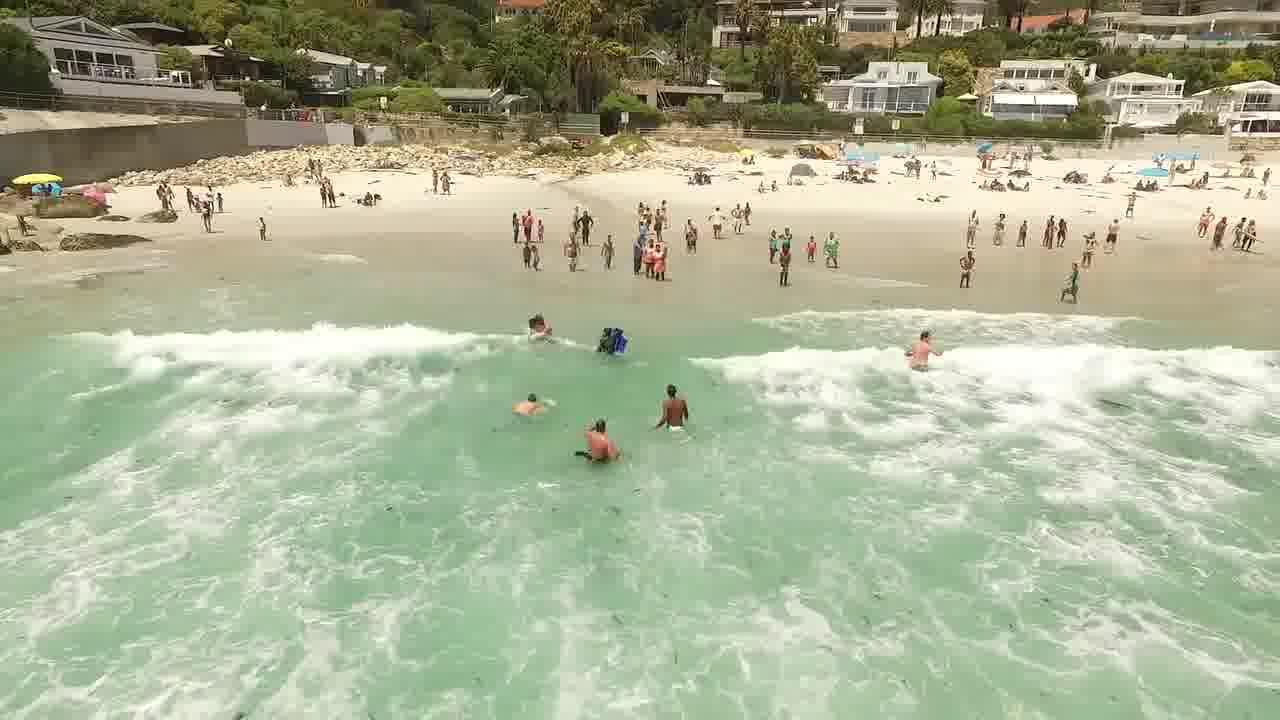human: (897, 325, 938, 375), (649, 370, 686, 422), (584, 409, 615, 459), (519, 301, 549, 345), (513, 380, 541, 424)
